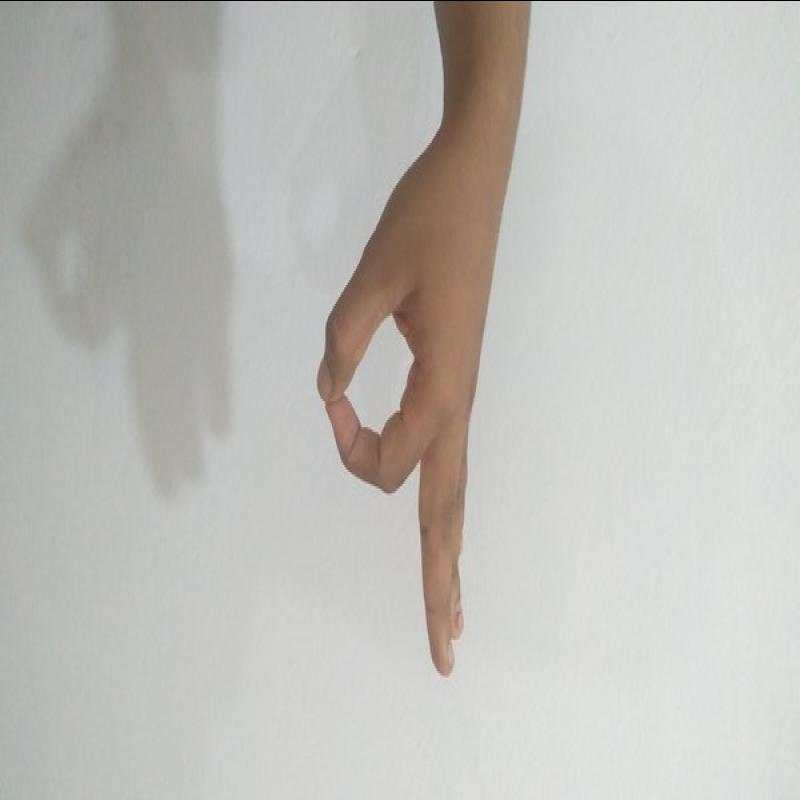Mudraakhyam: (300, 85, 533, 688)
